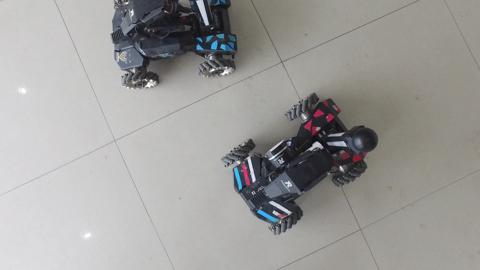chariot: (213, 81, 382, 239), (102, 1, 244, 90)
